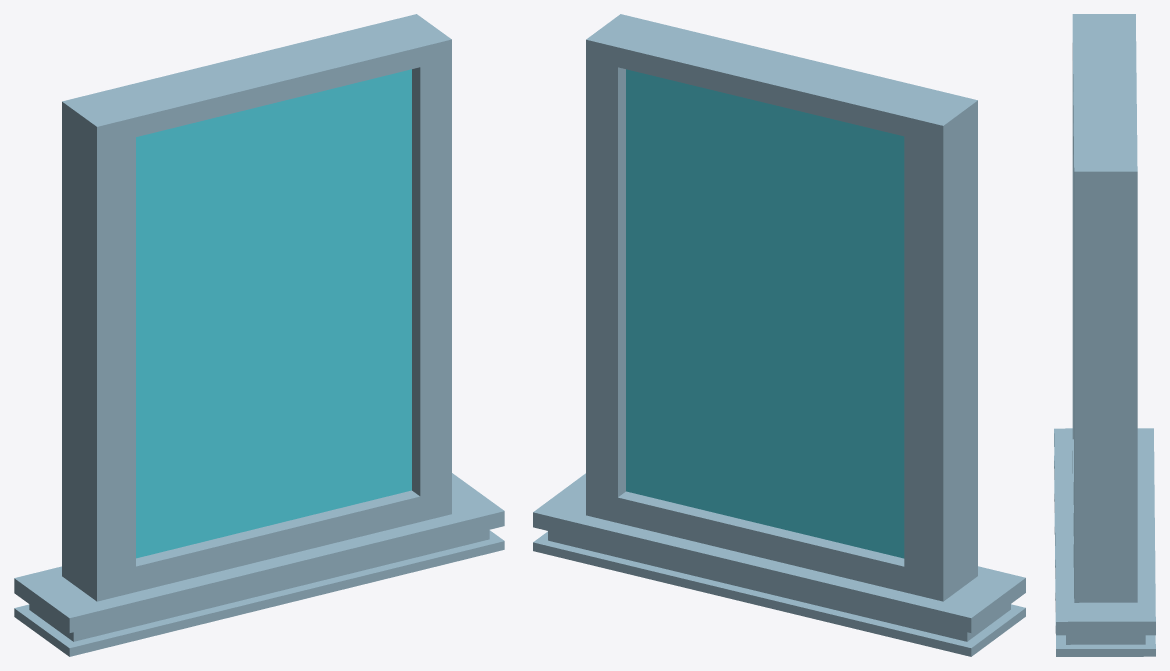
The model's file is sign.fbx.
3 views of the same model, side by side, from view 1: azimuth 30°, elevation 25°; view 2: azimuth 150°, elevation 25°; view 3: azimuth 270°, elevation 25° (orthographic). The views are drawn at different scales.
Parts seen in each view (by area): view 1: sign; view 2: sign; view 3: sign.
Part boxes in pixels (left/top/right/bottom): sign: left=14, top=14, right=504, bottom=656; sign: left=533, top=14, right=1025, bottom=656; sign: left=1054, top=14, right=1155, bottom=656.
Bounding box in the file's own units: 134 × 150 × 29.7.
